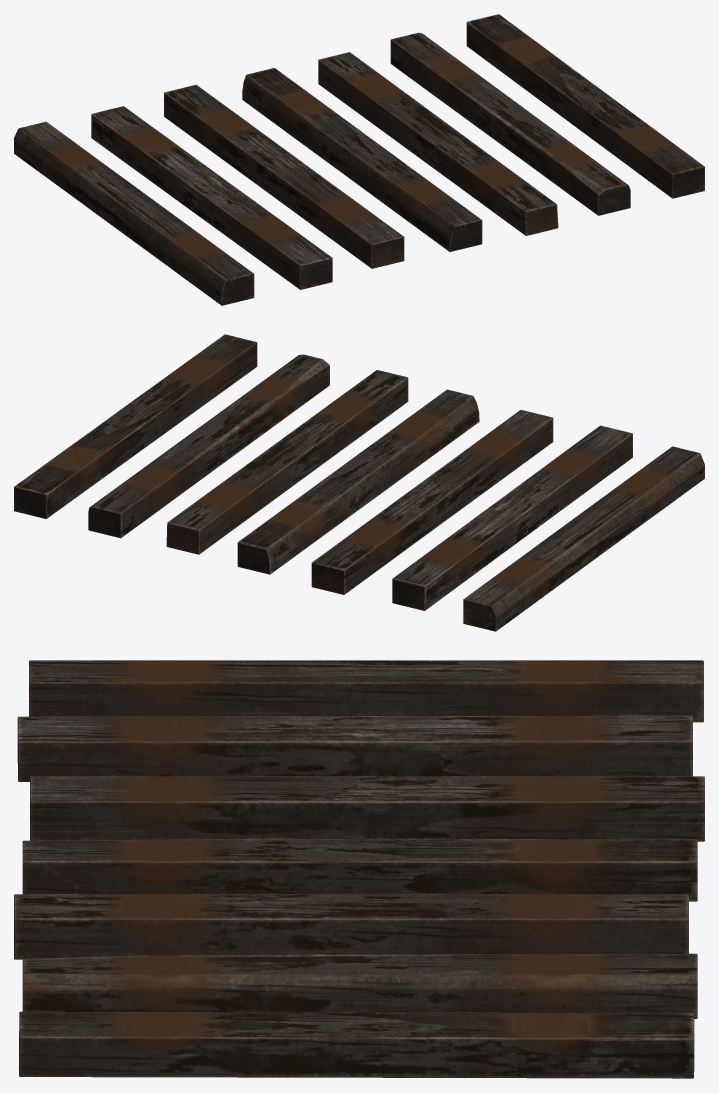
File: sleepers.glb
3 renders of one model, top to bottom at view 1: azimuth 30°, elevation 25°; view 2: azimuth 150°, elevation 25°; view 3: azimuth 270°, elevation 25°, orthographic. The views are drawn at different scales.
Visible parts, largest first — view 1: railroad_gav_railroad_gav_0.004; view 2: railroad_gav_railroad_gav_0.004; view 3: railroad_gav_railroad_gav_0.004.
Part boxes in pixels (x1,y1,x2,y2): railroad_gav_railroad_gav_0.004: (14,14,704,305); railroad_gav_railroad_gav_0.004: (14,334,704,631); railroad_gav_railroad_gav_0.004: (14,660,704,1078).
Bounding box in the file's own units: 3.68 × 0.18 × 2.82.
1 material, 1 textured.
